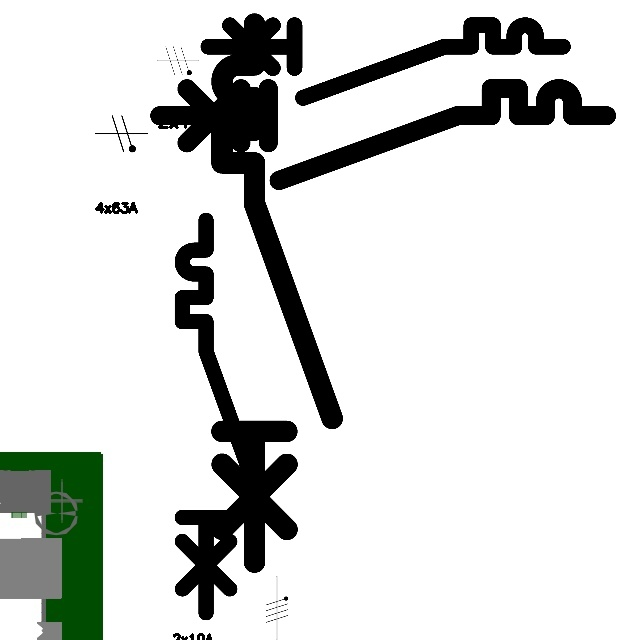interruptor_termomagnetico: (208, 10, 346, 576), (148, 77, 618, 192), (172, 210, 273, 623), (199, 16, 572, 107)
